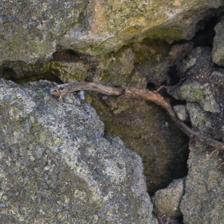Crack: (108, 42, 224, 198), (0, 27, 91, 153)
